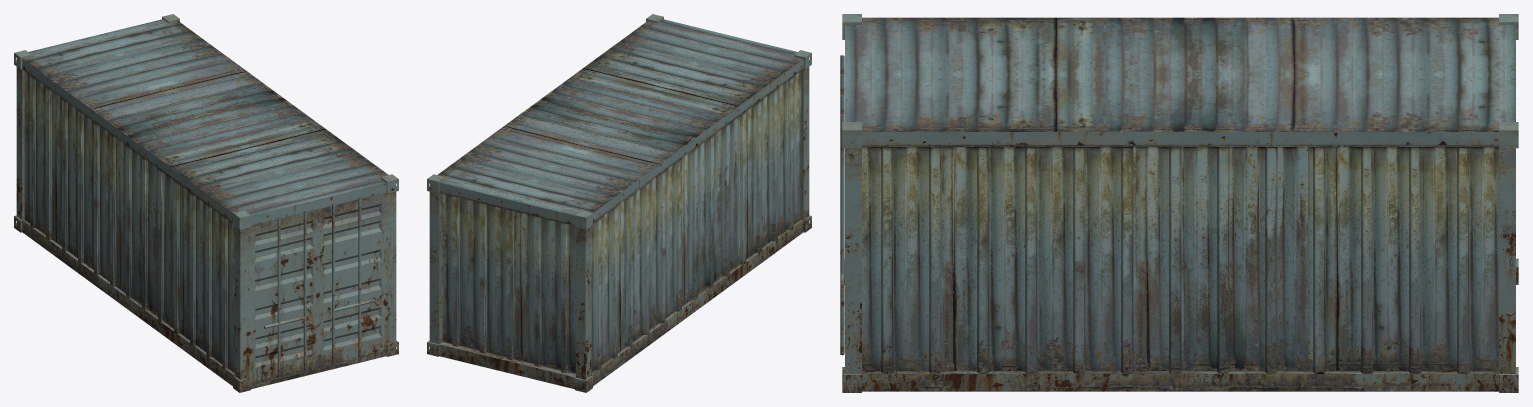
Rendered from Container2.fbx.
The picture shows the model from 3 angles, left to right: view 1: azimuth 30°, elevation 25°; view 2: azimuth 150°, elevation 25°; view 3: azimuth 270°, elevation 25°; orthographic projection. The views are drawn at different scales.
Parts seen in each view (by area): view 1: cont2_polySurface29; view 2: cont2_polySurface29; view 3: cont2_polySurface29.
Boxes of the visible parts, box(x1,y1,x2,y2) form: cont2_polySurface29: box(14, 14, 398, 392); cont2_polySurface29: box(427, 14, 811, 392); cont2_polySurface29: box(840, 14, 1518, 392).
Size of the model in its own units: 2.3 by 2.41 by 5.65.
Materials: 1 (1 with a texture image).
